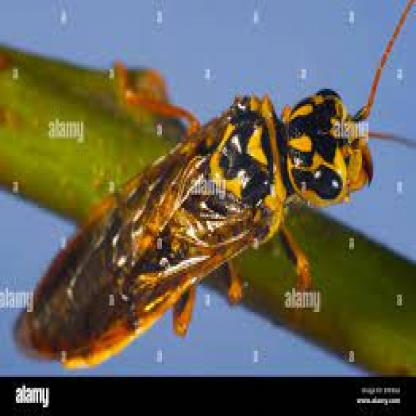sawfly: (16, 1, 416, 371)
